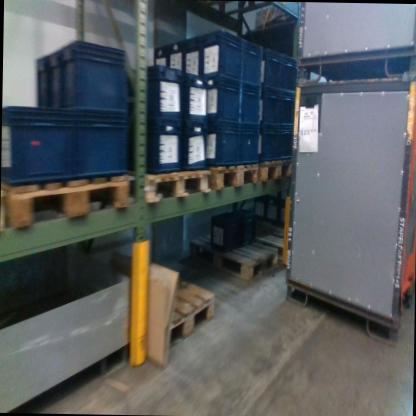pallet: (2, 164, 133, 235), (145, 265, 219, 361), (186, 220, 279, 293), (245, 205, 296, 277), (134, 163, 212, 210), (207, 155, 261, 192), (254, 155, 302, 189)
small_load_carrier: (1, 99, 74, 194), (68, 100, 129, 178), (56, 35, 122, 105), (133, 64, 183, 123), (142, 115, 187, 168), (200, 26, 238, 82), (205, 75, 241, 132), (204, 117, 239, 171), (183, 66, 208, 130), (238, 33, 263, 88), (257, 49, 284, 91), (183, 129, 207, 176), (256, 86, 281, 129), (47, 43, 62, 113), (255, 121, 279, 164), (144, 36, 169, 77), (36, 44, 51, 110), (238, 85, 259, 132), (234, 127, 261, 163), (280, 53, 300, 100), (186, 30, 203, 79), (168, 35, 184, 84), (280, 93, 301, 128), (279, 125, 294, 161)
